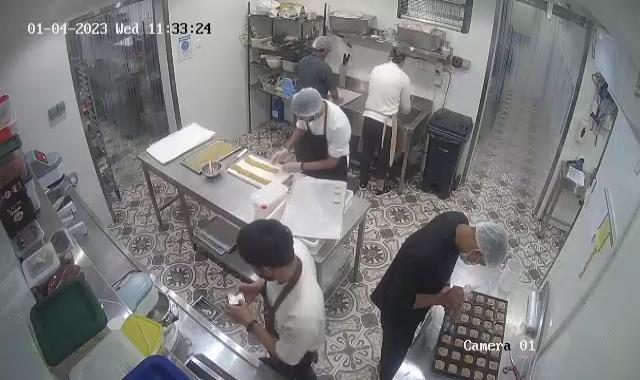hairnet: (471, 222, 511, 268), (289, 85, 324, 121), (313, 33, 332, 56)
no_hairnet: (238, 218, 295, 274), (387, 44, 408, 66)
